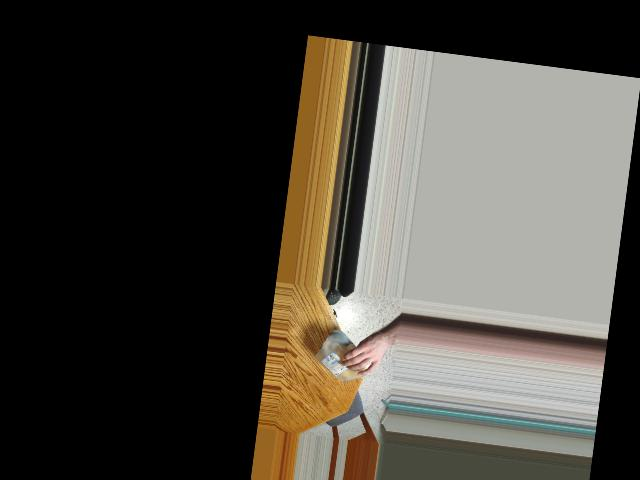cheese: (310, 328, 379, 386)
